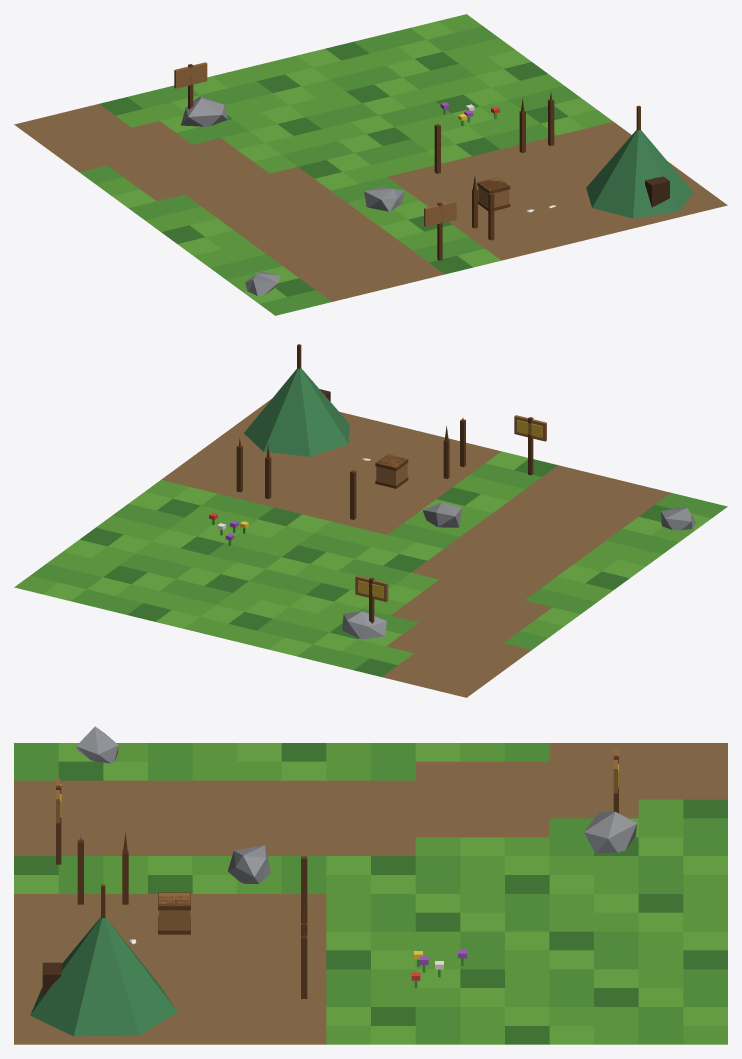
Rendered from chunk_6_7.glb.
3 renders of one model, top to bottom at view 1: azimuth 30°, elevation 25°; view 2: azimuth 150°, elevation 25°; view 3: azimuth 270°, elevation 25°, orthographic. The views are drawn at different scales.
Visible parts, largest first — view 1: chunk_6_7; view 2: chunk_6_7; view 3: chunk_6_7.
Part boxes in pixels (bbox=[...]): chunk_6_7: bbox=[14, 14, 727, 315]; chunk_6_7: bbox=[14, 344, 727, 697]; chunk_6_7: bbox=[14, 726, 727, 1044].
Size of the model in its own units: 16 by 3.4 by 16.
